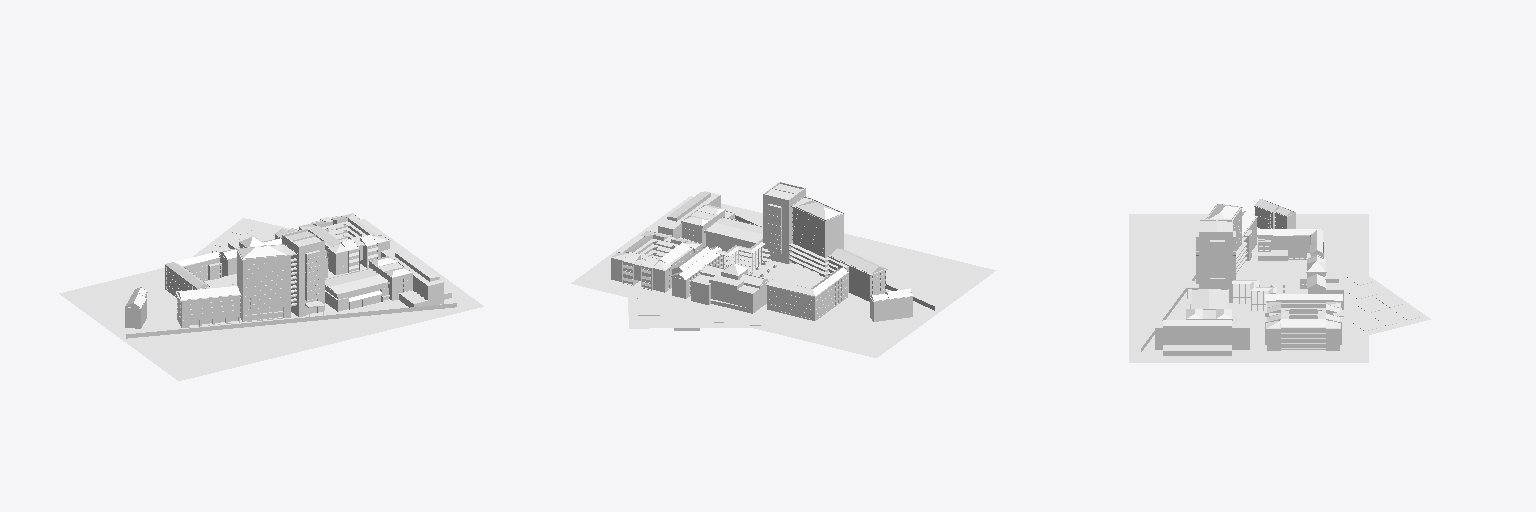
Rendered from chkl_23.obj.
The picture shows the model from 3 angles: view 1: azimuth 30°, elevation 25°; view 2: azimuth 150°, elevation 25°; view 3: azimuth 270°, elevation 25°; orthographic projection.
Parts seen in each view (by area): view 1: Land, Build_H_1, Part_F, Build, Cube_16, Part_A, Gate, Build_B2, High, Outside_E_1, Roof_G_1.1, Loft (+1 smaller); view 2: Land, Part_A, Build_H_1, Cube_16, Loft, Part_F, Cube.8, Build, Roof_G_1.1, Center_Land, Outside_E_1, Build_B2 (+5 smaller); view 3: Land, Build_H_1, Part_A, Cube_16, Center_Land, Cube.1_23, Loft, Outside_E_1, Roof_G_1.1, Part_F, Cube.8.
Part boxes in pixels (x1,y1,x2,y2): Land: (59,219,483,380); Build_H_1: (369,248,451,305); Part_F: (325,268,389,311); Build: (237,252,290,321); Cube_16: (282,229,324,316); Part_A: (165,251,221,297); Gate: (126,303,456,338); Build_B2: (177,296,239,327); High: (245,258,283,309); Outside_E_1: (298,213,390,274); Roof_G_1.1: (125,287,147,328); Loft: (150,218,289,289); Land: (571,196,996,357); Part_A: (766,267,848,320); Build_H_1: (655,191,725,246); Cube_16: (763,182,805,263); Loft: (627,288,818,328); Part_F: (704,217,762,257); Cube.8: (691,264,767,312); Build: (792,207,843,277); Roof_G_1.1: (869,288,913,321); Center_Land: (750,260,824,288); Outside_E_1: (610,230,701,292); Build_B2: (829,257,885,301); Land: (1129,214,1368,362); Build_H_1: (1155,309,1249,355); Part_A: (1257,229,1323,260); Cube_16: (1199,219,1232,302); Center_Land: (1236,261,1299,293); Cube.1_23: (1281,303,1325,349); Loft: (1330,249,1430,339); Outside_E_1: (1266,302,1340,350); Roof_G_1.1: (1254,199,1295,228); Part_F: (1189,289,1228,308); Cube.8: (1307,255,1343,308).
Size of the model in its own units: 4320 by 1021 by 3704.